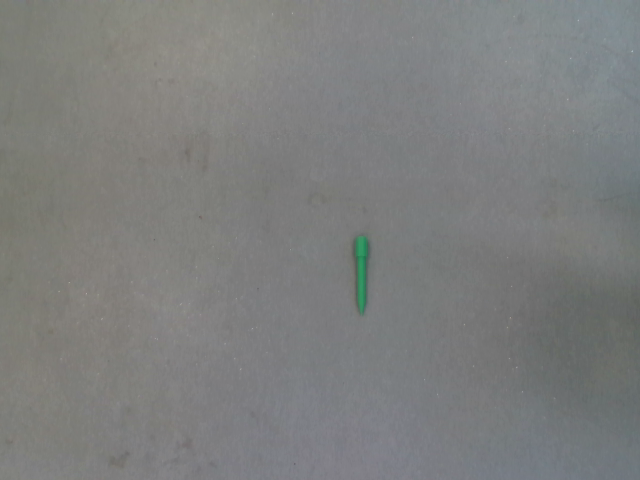Probe: (350, 230, 372, 324)
